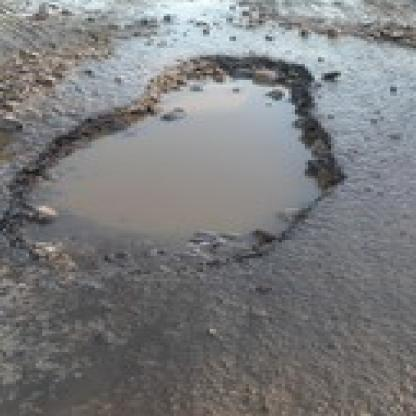pothole: (3, 55, 351, 276)
